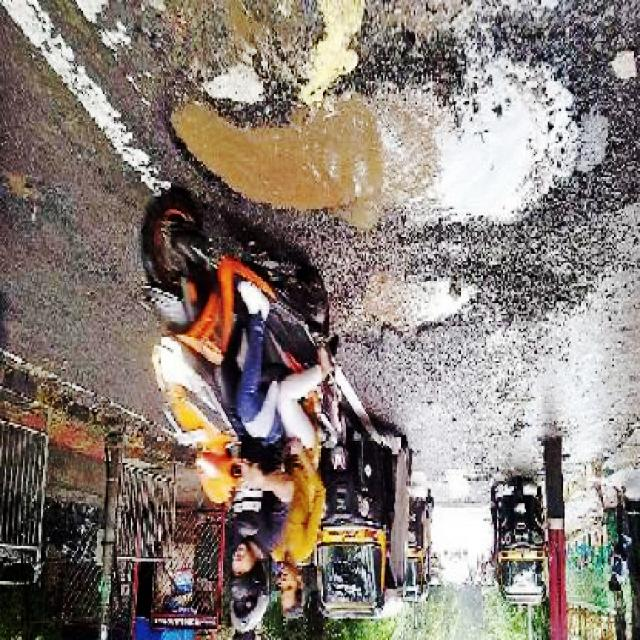pothole: (162, 52, 638, 238), (303, 257, 502, 352), (0, 158, 45, 216)
